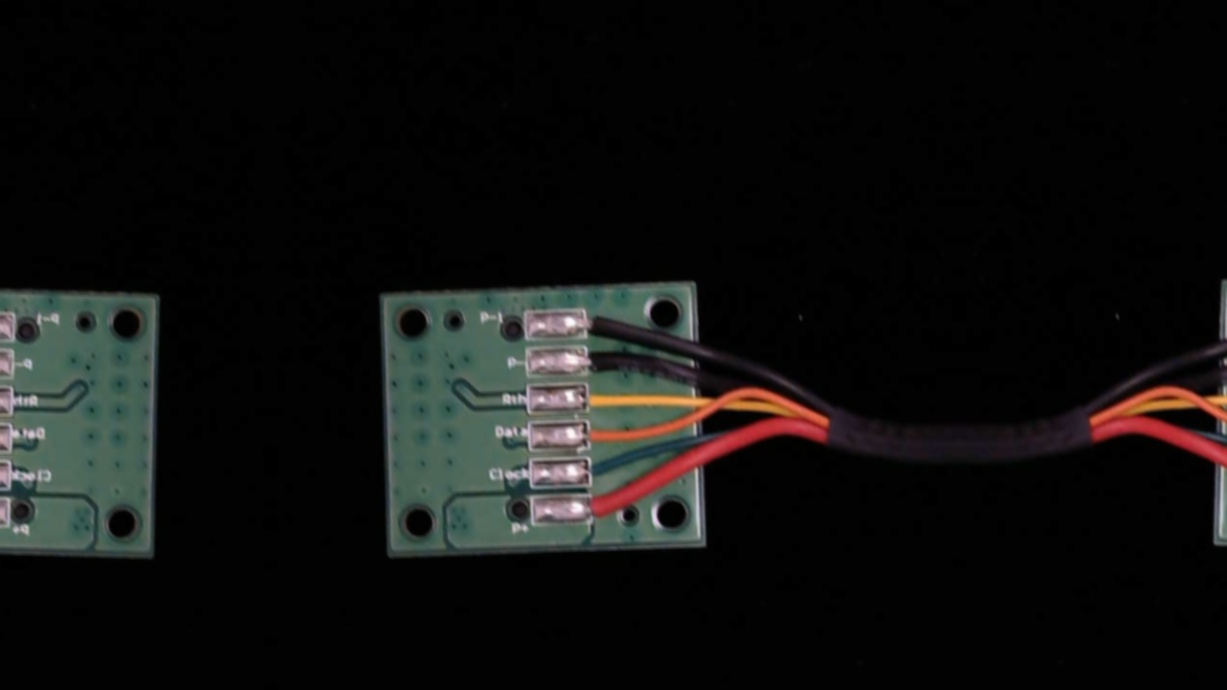Black: (569, 347, 623, 375)
Black1: (569, 310, 630, 337)
Green: (569, 457, 628, 486)
Orange: (570, 422, 634, 450)
Red: (570, 494, 625, 523)
Yellow: (569, 385, 631, 411)
